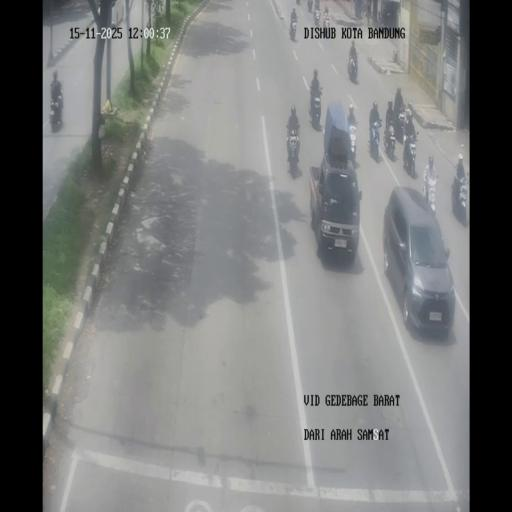car: (382, 190, 454, 332), (309, 134, 360, 262)
truck: (451, 168, 469, 224), (402, 131, 419, 177), (286, 124, 300, 174), (423, 171, 438, 215), (309, 85, 322, 126), (49, 94, 63, 132), (347, 119, 358, 164), (383, 117, 395, 158), (394, 106, 406, 143), (369, 121, 381, 158), (347, 50, 358, 82), (404, 106, 413, 132), (289, 15, 297, 42), (322, 11, 330, 35), (313, 6, 321, 27), (361, 0, 367, 18), (307, 0, 314, 13), (377, 9, 383, 24), (296, 0, 300, 6)
